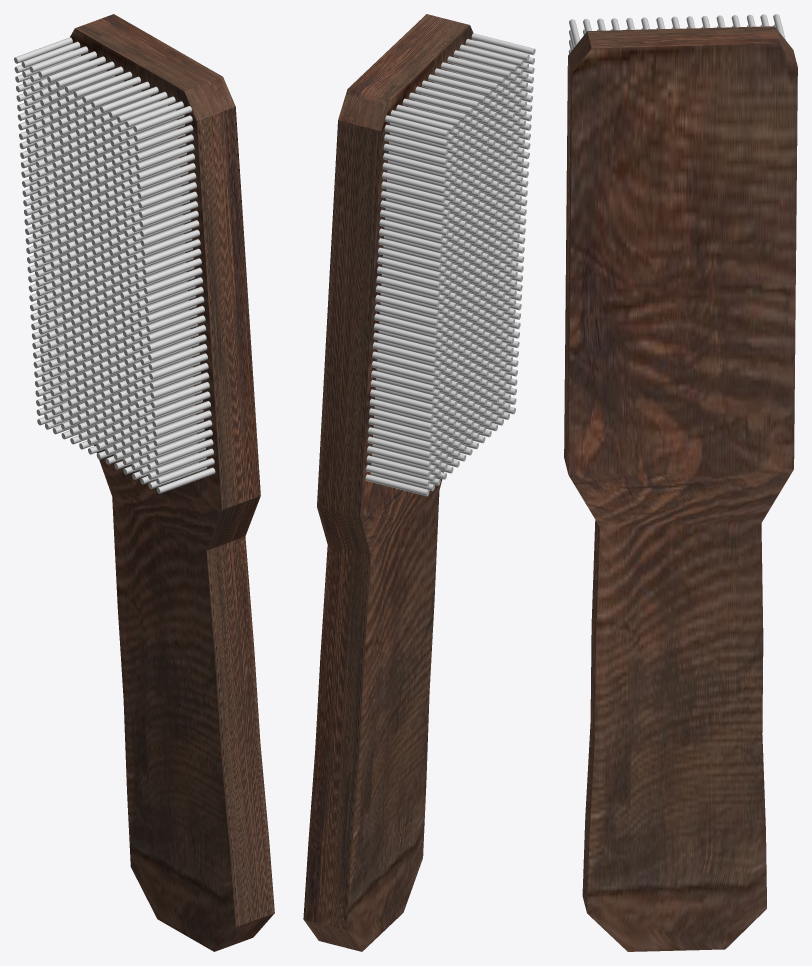
The picture shows the model from 3 angles, left to right: view 1: azimuth 30°, elevation 25°; view 2: azimuth 150°, elevation 25°; view 3: azimuth 270°, elevation 25°; orthographic projection.
Parts seen in each view (by area): view 1: 钢丝刷; view 2: 钢丝刷; view 3: 钢丝刷.
Part boxes in pixels (x1,y1,x2,y2): 钢丝刷: [14, 14, 274, 951]; 钢丝刷: [303, 14, 476, 951]; 钢丝刷: [564, 14, 797, 951].
Bounding box in the file's own units: 0.3522 × 1.83 × 0.4384.
1 material, 1 textured.
